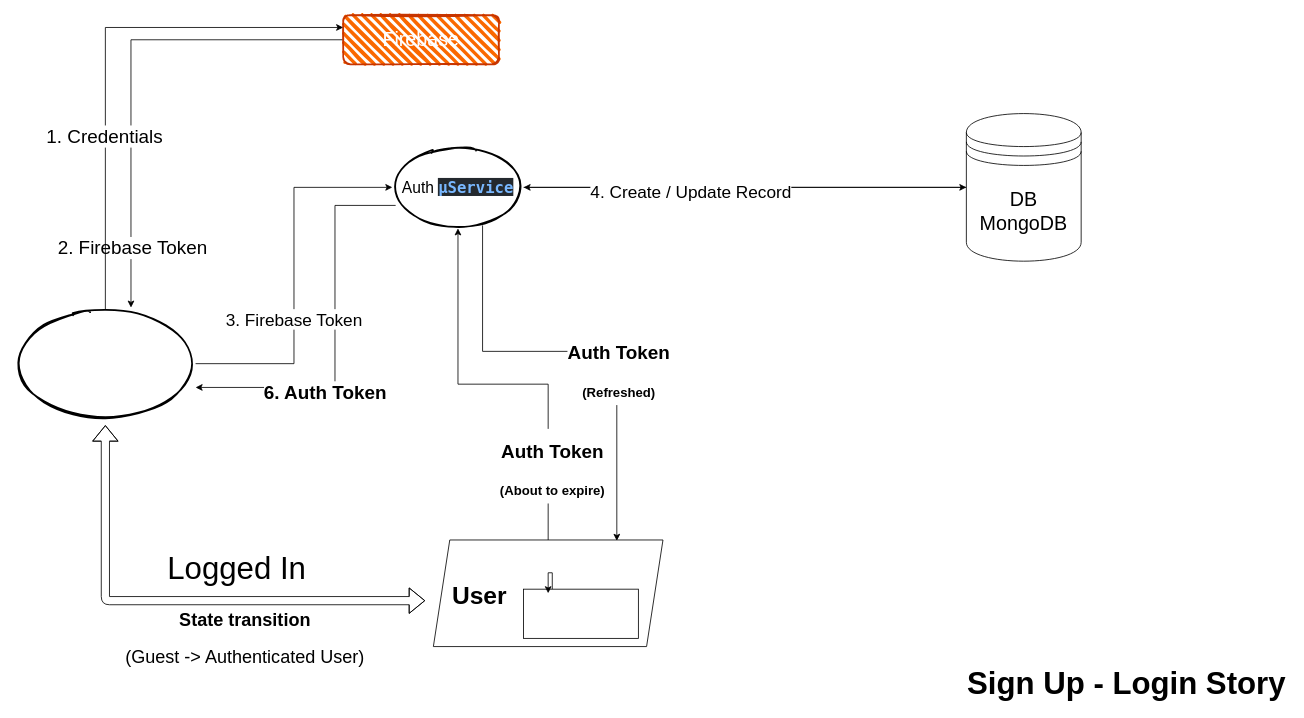
This 1304x718 diagram has some shape labels left out. The box of each missing label's shape, as (x1, y1, x2, y2) in pixels:
Auth Token: (523, 588, 638, 638)
Guest: (14, 309, 196, 417)
